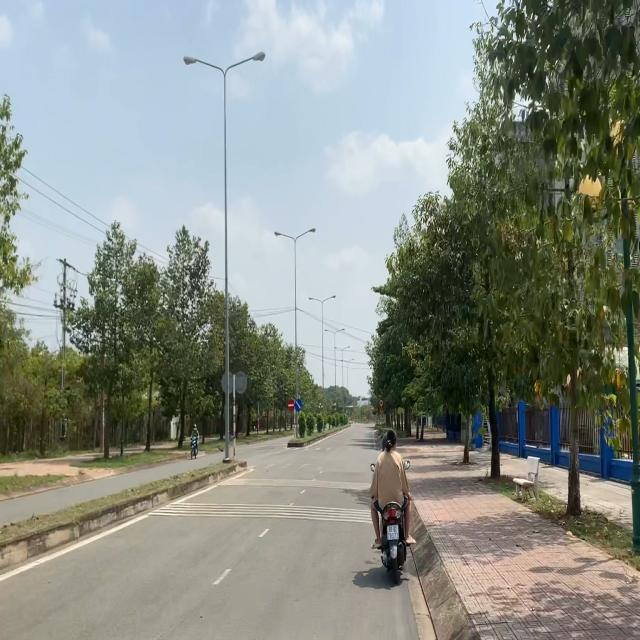Cam nguoc chieu: (288, 398, 294, 412)
Hieu lenh: (294, 398, 302, 412)
